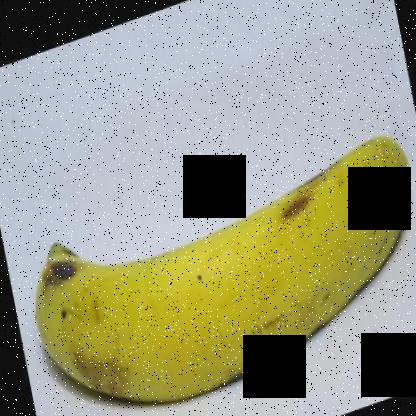freshripe: (23, 113, 416, 415)
